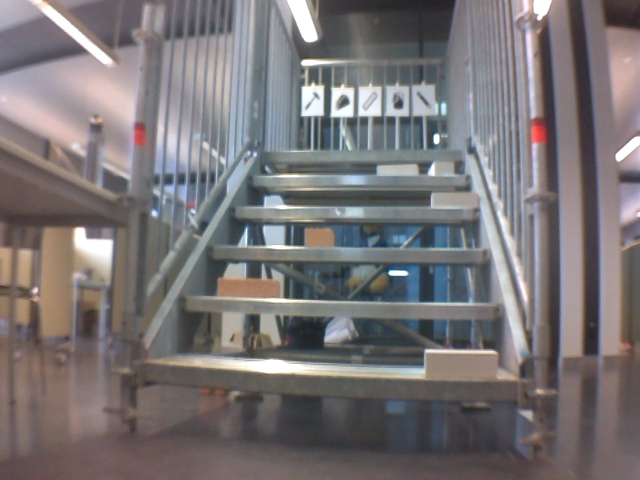brick: (424, 349, 497, 379), (218, 279, 280, 299), (432, 193, 478, 207), (304, 227, 333, 246), (377, 164, 417, 175), (428, 162, 453, 175)
bucket: (389, 90, 407, 111)
edge: (142, 362, 514, 398), (181, 297, 504, 318), (209, 246, 492, 261), (229, 207, 483, 219), (258, 150, 463, 161), (250, 176, 470, 186)
hammer: (302, 90, 321, 113)
pencil: (414, 90, 435, 110)
ruler: (360, 90, 379, 112)
stairs: (115, 2, 551, 460)
steps: (135, 143, 517, 406)
taco: (333, 92, 352, 112)
